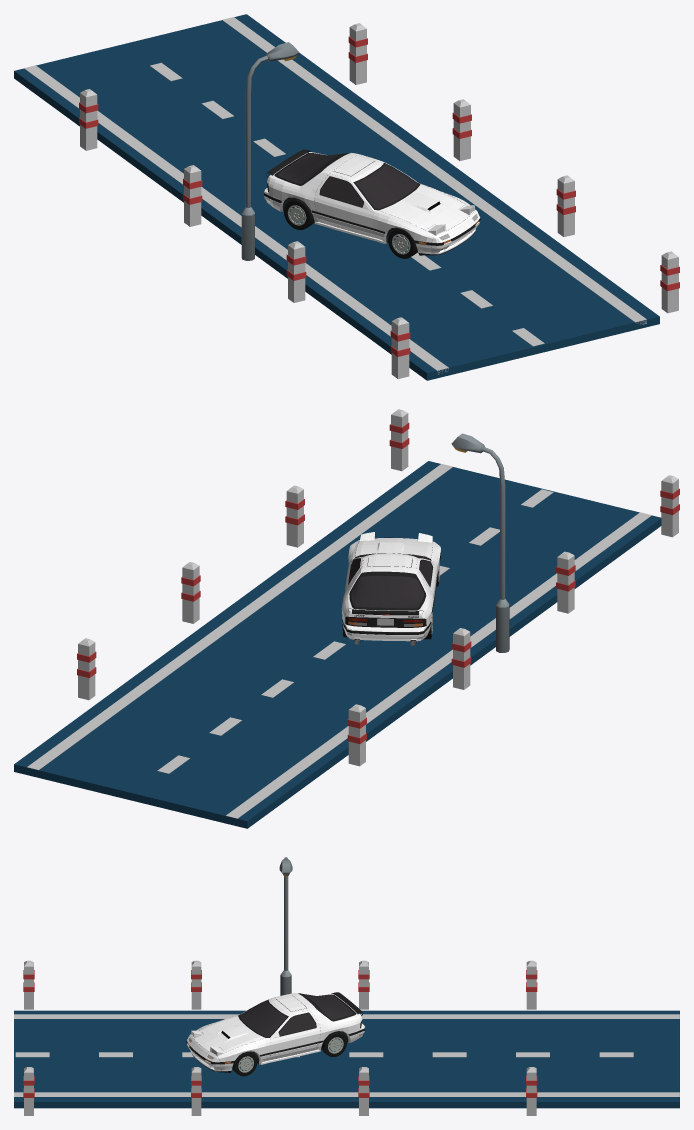
Rendered from carscene_Dracco.glb.
3 views of the same model, one above another, from view 1: azimuth 30°, elevation 25°; view 2: azimuth 150°, elevation 25°; view 3: azimuth 270°, elevation 25° (orthographic). The views are drawn at different scales.
Visible parts, largest first — view 1: road, Rear_bumper, AllGlass, streetlight, RR_WHEEL, FR_WHEEL; view 2: road, Rear_bumper, AllGlass, streetlight; view 3: road, Rear_bumper, AllGlass, streetlight, RL_WHEEL, FL_WHEEL.
Part boxes in pixels (<box>): road: <box>14,14,679,380</box>; Rear_bumper: <box>264,149,480,254</box>; AllGlass: <box>278,153,418,208</box>; streetlight: <box>241,42,299,260</box>; RR_WHEEL: <box>284,198,314,229</box>; FR_WHEEL: <box>388,228,417,258</box>; road: <box>14,409,679,828</box>; Rear_bumper: <box>341,537,441,641</box>; AllGlass: <box>349,553,432,608</box>; streetlight: <box>451,433,509,652</box>; road: <box>14,960,679,1115</box>; Rear_bumper: <box>186,992,364,1071</box>; AllGlass: <box>239,993,353,1036</box>; streetlight: <box>279,857,292,995</box>; RL_WHEEL: <box>321,1031,346,1056</box>; FL_WHEEL: <box>232,1051,257,1076</box>.
Bounding box in the file's own units: 43.4 × 30.22 × 110.
Materials: 8 (3 with a texture image).
